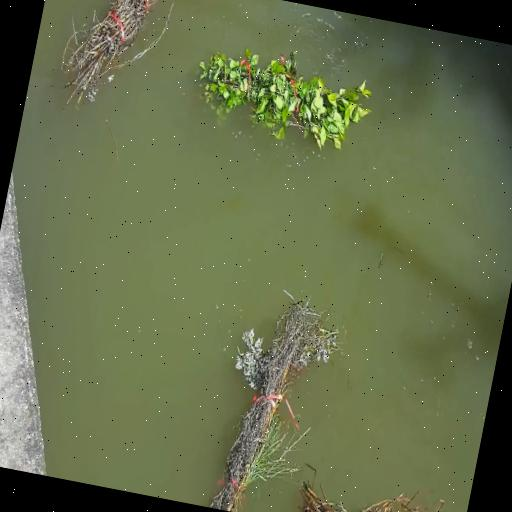twig: (211, 297, 338, 512), (200, 49, 370, 150), (65, 0, 156, 103), (301, 483, 361, 512), (363, 497, 401, 512)
